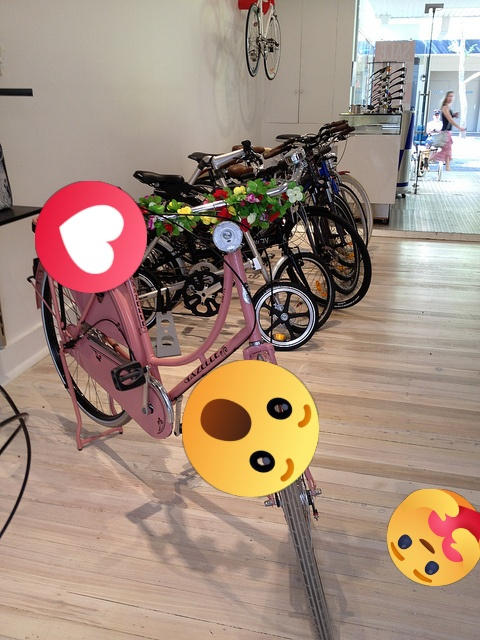care: (387, 489, 480, 586)
love: (35, 181, 147, 293)
wow: (182, 360, 319, 497)
